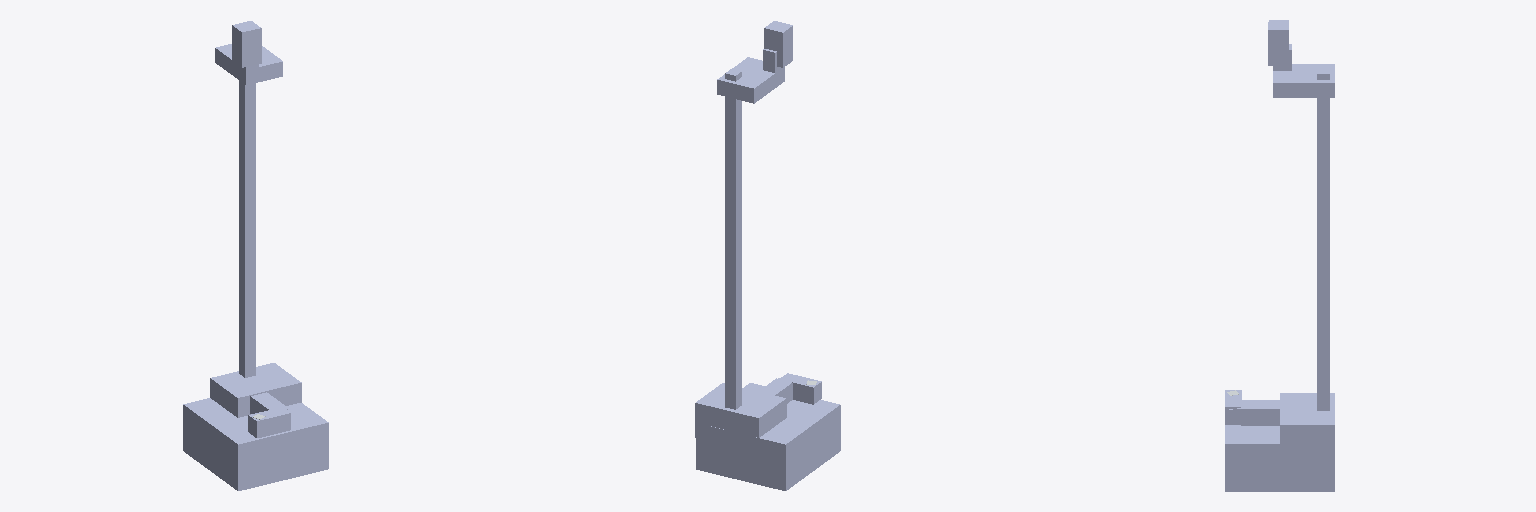
The robot description file, URDF, robot "stretch_description_S3_collision":
<?xml version="1.0" encoding="utf-8"?>
<!-- This URDF was automatically created by SolidWorks to URDF Exporter! Originally created by [author] ([email redacted]) 
     Commit Version: 1.5.1-0-g916b5db  Build Version: 1.5.7152.31018
     For more information, please see http://wiki.ros.org/sw_urdf_exporter -->
<robot
  name="stretch_description_S3_collision">
  <link
    name="base_link">
    <inertial>
      <origin
        xyz="-0.11400004837072 0.000500000000002998 0.0804985999999998"
        rpy="0 0 0" />
      <mass
        value="17.8942374283071" />
      <inertia
        ixx="0.213061120009461"
        ixy="-2.10678538191478E-17"
        ixz="4.68125202565575E-18"
        iyy="0.19615284074807"
        iyz="-6.45475890002455E-17"
        izz="0.331910561578368" />
    </inertial>
    <visual>
      <origin
        xyz="0 0 0"
        rpy="0 0 0" />
      <geometry>
        <mesh
          filename="package://stretch_description_S3_collision/meshes/base_link.STL" />
      </geometry>
      <material
        name="">
        <color
          rgba="0.792156862745098 0.819607843137255 0.933333333333333 1" />
      </material>
    </visual>
    <collision>
      <origin
        xyz="0 0 0"
        rpy="0 0 0" />
      <geometry>
        <mesh
          filename="package://stretch_description_S3_collision/meshes/base_link.STL" />
      </geometry>
    </collision>
  </link>
  <link
    name="link_mast">
    <inertial>
      <origin
        xyz="2.77555756156289E-17 0.7075 -2.77555756156289E-17"
        rpy="0 0 0" />
      <mass
        value="1.8678067708306" />
      <inertia
        ixx="0.257240348204921"
        ixy="-1.10228377351677E-18"
        ixz="-3.10682858140655E-20"
        iyy="0.000452490549048072"
        iyz="2.55168464362254E-18"
        izz="0.257240348204921" />
    </inertial>
    <visual>
      <origin
        xyz="0 0 0"
        rpy="0 0 0" />
      <geometry>
        <mesh
          filename="package://stretch_description_S3_collision/meshes/link_mast.STL" />
      </geometry>
      <material
        name="">
        <color
          rgba="0.792156862745098 0.819607843137255 0.933333333333333 1" />
      </material>
    </visual>
    <collision>
      <origin
        xyz="0 0 0"
        rpy="0 0 0" />
      <geometry>
        <mesh
          filename="package://stretch_description_S3_collision/meshes/link_mast.STL" />
      </geometry>
    </collision>
  </link>
  <joint
    name="joint_mast"
    type="fixed">
    <origin
      xyz="-0.0669999999989439 0.135000000000006 0.0283999999999986"
      rpy="1.5707963267949 0 0" />
    <parent
      link="base_link" />
    <child
      link="link_mast" />
    <axis
      xyz="0 0 0" />
  </joint>
  <link
    name="link_lift">
    <inertial>
      <origin
        xyz="-0.0495999999999985 0.0391055571636557 0.0263204136207454"
        rpy="0 0 0" />
      <mass
        value="4.73654413512218" />
      <inertia
        ixx="0.0265523544770934"
        ixy="4.3603911959983E-18"
        ixz="1.9452653164428E-17"
        iyy="0.0172864951059097"
        iyz="-2.69087210511415E-17"
        izz="0.0323494072137015" />
    </inertial>
    <visual>
      <origin
        xyz="0 0 0"
        rpy="0 0 0" />
      <geometry>
        <mesh
          filename="package://stretch_description_S3_collision/meshes/link_lift.STL" />
      </geometry>
      <material
        name="">
        <color
          rgba="0.792156862745098 0.819607843137255 0.933333333333333 1" />
      </material>
    </visual>
    <collision>
      <origin
        xyz="0 0 0"
        rpy="0 0 0" />
      <geometry>
        <mesh
          filename="package://stretch_description_S3_collision/meshes/link_lift.STL" />
      </geometry>
    </collision>
  </link>
  <joint
    name="joint_lift"
    type="prismatic">
    <origin
      xyz="-0.0373854368624716 0.166597200000001 0"
      rpy="1.5707963267949 1.5707963267949 0" />
    <parent
      link="link_mast" />
    <child
      link="link_lift" />
    <axis
      xyz="0 0 -1" />
    <limit
      lower="0"
      upper="1.1"
      effort="1"
      velocity="1" />
  </joint>
  <link
    name="link_arm_l4">
    <inertial>
      <origin
        xyz="1.31145094783847E-15 1.38777878078145E-15 -0.111250000000003"
        rpy="0 0 0" />
      <mass
        value="0.78638230625" />
      <inertia
        ixx="0.00347584599997702"
        ixy="5.42895268456038E-20"
        ixz="1.88755031660467E-19"
        iyy="0.00347584599997702"
        iyz="5.45500739372154E-20"
        izz="0.000463218825155857" />
    </inertial>
    <visual>
      <origin
        xyz="0 0 0"
        rpy="0 0 0" />
      <geometry>
        <mesh
          filename="package://stretch_description_S3_collision/meshes/link_arm_l4.STL" />
      </geometry>
      <material
        name="">
        <color
          rgba="0.792156862745098 0.819607843137255 0.933333333333333 1" />
      </material>
    </visual>
    <collision>
      <origin
        xyz="0 0 0"
        rpy="0 0 0" />
      <geometry>
        <mesh
          filename="package://stretch_description_S3_collision/meshes/link_arm_l4.STL" />
      </geometry>
    </collision>
  </link>
  <joint
    name="joint_arm_l4"
    type="fixed">
    <origin
      xyz="-0.254702700000004 0 0"
      rpy="1.5707963267949 0 -1.5707963267949" />
    <parent
      link="link_lift" />
    <child
      link="link_arm_l4" />
    <axis
      xyz="0 0 0" />
  </joint>
  <link
    name="link_arm_l3">
    <inertial>
      <origin
        xyz="1.29583843655467E-15 1.36002320516582E-15 -0.113250000000003"
        rpy="0 0 0" />
      <mass
        value="0.69140540625" />
      <inertia
        ixx="0.00313176760151709"
        ixy="1.37421883375393E-21"
        ixz="1.2417568515994E-19"
        iyy="0.00313176760151709"
        iyz="-5.62600837089042E-20"
        izz="0.000351759702569336" />
    </inertial>
    <visual>
      <origin
        xyz="0 0 0"
        rpy="0 0 0" />
      <geometry>
        <mesh
          filename="package://stretch_description_S3_collision/meshes/link_arm_l3.STL" />
      </geometry>
      <material
        name="">
        <color
          rgba="0.792156862745098 0.819607843137255 0.933333333333333 1" />
      </material>
    </visual>
    <collision>
      <origin
        xyz="0 0 0"
        rpy="0 0 0" />
      <geometry>
        <mesh
          filename="package://stretch_description_S3_collision/meshes/link_arm_l3.STL" />
      </geometry>
    </collision>
  </link>
  <joint
    name="joint_arm_l3"
    type="prismatic">
    <origin
      xyz="0 0 0.013"
      rpy="0 0 0" />
    <parent
      link="link_arm_l4" />
    <child
      link="link_arm_l3" />
    <axis
      xyz="0 0 -1" />
    <limit
      lower="0"
      upper="1"
      effort="1"
      velocity="1" />
  </joint>
  <link
    name="link_arm_l2">
    <inertial>
      <origin
        xyz="1.3235940121703E-15 1.38777878078145E-15 -0.113250000000003"
        rpy="0 0 0" />
      <mass
        value="0.597240296250001" />
      <inertia
        ixx="0.00268454896994585"
        ixy="-2.20304947481381E-20"
        ixz="1.65250429579797E-20"
        iyy="0.00268454896994585"
        iyz="-2.43635469477148E-20"
        izz="0.000262469441843111" />
    </inertial>
    <visual>
      <origin
        xyz="0 0 0"
        rpy="0 0 0" />
      <geometry>
        <mesh
          filename="package://stretch_description_S3_collision/meshes/link_arm_l2.STL" />
      </geometry>
      <material
        name="">
        <color
          rgba="0.792156862745098 0.819607843137255 0.933333333333333 1" />
      </material>
    </visual>
    <collision>
      <origin
        xyz="0 0 0"
        rpy="0 0 0" />
      <geometry>
        <mesh
          filename="package://stretch_description_S3_collision/meshes/link_arm_l2.STL" />
      </geometry>
    </collision>
  </link>
  <joint
    name="joint_arm_l2"
    type="prismatic">
    <origin
      xyz="0 0 0.013"
      rpy="0 0 0" />
    <parent
      link="link_arm_l3" />
    <child
      link="link_arm_l2" />
    <axis
      xyz="0 0 -1" />
    <limit
      lower="0"
      upper="1"
      effort="1"
      velocity="1" />
  </joint>
  <link
    name="link_arm_l1">
    <inertial>
      <origin
        xyz="1.33573707650214E-15 1.33226762955019E-15 -0.113250000000002"
        rpy="0 0 0" />
      <mass
        value="0.50781809625" />
      <inertia
        ixx="0.0022658958771701"
        ixy="1.02241667596953E-20"
        ixz="1.18035557554568E-20"
        iyy="0.0022658958771701"
        iyz="5.09058387024662E-20"
        izz="0.000189756599616611" />
    </inertial>
    <visual>
      <origin
        xyz="0 0 0"
        rpy="0 0 0" />
      <geometry>
        <mesh
          filename="package://stretch_description_S3_collision/meshes/link_arm_l1.STL" />
      </geometry>
      <material
        name="">
        <color
          rgba="0.792156862745098 0.819607843137255 0.933333333333333 1" />
      </material>
    </visual>
    <collision>
      <origin
        xyz="0 0 0"
        rpy="0 0 0" />
      <geometry>
        <mesh
          filename="package://stretch_description_S3_collision/meshes/link_arm_l1.STL" />
      </geometry>
    </collision>
  </link>
  <joint
    name="joint_arm_l1"
    type="prismatic">
    <origin
      xyz="0 0 0.0129999999999981"
      rpy="0 0 0" />
    <parent
      link="link_arm_l2" />
    <child
      link="link_arm_l1" />
    <axis
      xyz="0 0 -1" />
    <limit
      lower="0"
      upper="1"
      effort="1"
      velocity="1" />
  </joint>
  <link
    name="link_arm_l0">
    <inertial>
      <origin
        xyz="0.0306371125003669 -0.000255002893144701 -0.0332543343274891"
        rpy="0 0 0" />
      <mass
        value="0.541496991463441" />
      <inertia
        ixx="0.00200001508428477"
        ixy="1.70041718844323E-06"
        ixz="-0.000535096318028993"
        iyy="0.00258685232494381"
        iyz="4.4537849056297E-06"
        izz="0.000836410819689304" />
    </inertial>
    <visual>
      <origin
        xyz="0 0 0"
        rpy="0 0 0" />
      <geometry>
        <mesh
          filename="package://stretch_description_S3_collision/meshes/link_arm_l0.STL" />
      </geometry>
      <material
        name="">
        <color
          rgba="0.792156862745098 0.819607843137255 0.933333333333333 1" />
      </material>
    </visual>
    <collision>
      <origin
        xyz="0 0 0"
        rpy="0 0 0" />
      <geometry>
        <mesh
          filename="package://stretch_description_S3_collision/meshes/link_arm_l0.STL" />
      </geometry>
    </collision>
  </link>
  <joint
    name="joint_arm_l0"
    type="prismatic">
    <origin
      xyz="0 0 -0.0137499999991968"
      rpy="0 0 0" />
    <parent
      link="link_arm_l1" />
    <child
      link="link_arm_l0" />
    <axis
      xyz="0 0 -1" />
    <limit
      lower="0"
      upper="1"
      effort="1"
      velocity="1" />
  </joint>
  <link
    name="link_wrist_yaw">
    <inertial>
      <origin
        xyz="-1.29063426612674E-15 4.19109191795997E-15 -0.0190000000000012"
        rpy="0 0 0" />
      <mass
        value="0.0923399999999999" />
      <inertia
        ixx="1.803708E-05"
        ixy="8.90347399579394E-22"
        ixz="3.88874985447859E-21"
        iyy="1.803708E-05"
        iyz="-1.78677337138613E-21"
        izz="1.3851E-05" />
    </inertial>
    <visual>
      <origin
        xyz="0 0 0"
        rpy="0 0 0" />
      <geometry>
        <mesh
          filename="package://stretch_description_S3_collision/meshes/link_wrist_yaw.STL" />
      </geometry>
      <material
        name="">
        <color
          rgba="0.898039215686275 0.917647058823529 0.929411764705882 1" />
      </material>
    </visual>
    <collision>
      <origin
        xyz="0 0 0"
        rpy="0 0 0" />
      <geometry>
        <mesh
          filename="package://stretch_description_S3_collision/meshes/link_wrist_yaw.STL" />
      </geometry>
    </collision>
  </link>
  <joint
    name="joint_wrist_yaw"
    type="revolute">
    <origin
      xyz="0.0830000000000654 -0.0307500000000129 0"
      rpy="-1.5707963267949 0 3.14159265358978" />
    <parent
      link="link_arm_l0" />
    <child
      link="link_wrist_yaw" />
    <axis
      xyz="0 0 -1" />
    <limit
      lower="0"
      upper="3.1416"
      effort="1"
      velocity="1" />
  </joint>
  <link
    name="link_head">
    <inertial>
      <origin
        xyz="0.0611392022099394 0.0287000000193147 0.0255640887445199"
        rpy="0 0 0" />
      <mass
        value="1.33572254312489" />
      <inertia
        ixx="0.00229139640231229"
        ixy="-5.99325419161402E-19"
        ixz="-3.26749734422614E-19"
        iyy="0.00443291287224681"
        iyz="4.76482985670774E-20"
        izz="0.00612696524845671" />
    </inertial>
    <visual>
      <origin
        xyz="0 0 0"
        rpy="0 0 0" />
      <geometry>
        <mesh
          filename="package://stretch_description_S3_collision/meshes/link_head.STL" />
      </geometry>
      <material
        name="">
        <color
          rgba="0.792156862745098 0.819607843137255 0.933333333333333 1" />
      </material>
    </visual>
    <collision>
      <origin
        xyz="0 0 0"
        rpy="0 0 0" />
      <geometry>
        <mesh
          filename="package://stretch_description_S3_collision/meshes/link_head.STL" />
      </geometry>
    </collision>
  </link>
  <joint
    name="joint_head"
    type="fixed">
    <origin
      xyz="0 1.33 0"
      rpy="1.5707963267949 -1.5707963267949 0" />
    <parent
      link="link_mast" />
    <child
      link="link_head" />
    <axis
      xyz="0 0 0" />
  </joint>
  <link
    name="link_head_pan">
    <inertial>
      <origin
        xyz="2.77555756156289E-17 0.00801031176389815 -0.0135000000000001"
        rpy="0 0 0" />
      <mass
        value="0.296560230345136" />
      <inertia
        ixx="0.000380277119700896"
        ixy="9.92854868294564E-21"
        ixz="2.54377581086815E-20"
        iyy="0.000338301082766222"
        iyz="1.79656578255297E-20"
        izz="0.000142065114676175" />
    </inertial>
    <visual>
      <origin
        xyz="0 0 0"
        rpy="0 0 0" />
      <geometry>
        <mesh
          filename="package://stretch_description_S3_collision/meshes/link_head_pan.STL" />
      </geometry>
      <material
        name="">
        <color
          rgba="0.792156862745098 0.819607843137255 0.933333333333333 1" />
      </material>
    </visual>
    <collision>
      <origin
        xyz="0 0 0"
        rpy="0 0 0" />
      <geometry>
        <mesh
          filename="package://stretch_description_S3_collision/meshes/link_head_pan.STL" />
      </geometry>
    </collision>
  </link>
  <joint
    name="joint_head_pan"
    type="revolute">
    <origin
      xyz="0.135 0.0731000000000001 -0.00319621125547975"
      rpy="0 0 1.5707963267949" />
    <parent
      link="link_head" />
    <child
      link="link_head_pan" />
    <axis
      xyz="0 0 -1" />
    <limit
      lower="0"
      upper="1"
      effort="1"
      velocity="1" />
  </joint>
  <link
    name="link_head_tilt">
    <inertial>
      <origin
        xyz="0.0108465972636136 -0.022972712336035 0.0318092059684025"
        rpy="0 0 0" />
      <mass
        value="0.530742044146659" />
      <inertia
        ixx="0.000835699277225503"
        ixy="1.38912684335748E-17"
        ixz="3.62079586230494E-06"
        iyy="0.000386462475100045"
        iyz="2.62299828937405E-19"
        izz="0.000863980911720213" />
    </inertial>
    <visual>
      <origin
        xyz="0 0 0"
        rpy="0 0 0" />
      <geometry>
        <mesh
          filename="package://stretch_description_S3_collision/meshes/link_head_tilt.STL" />
      </geometry>
      <material
        name="">
        <color
          rgba="0.792156862745098 0.819607843137255 0.933333333333333 1" />
      </material>
    </visual>
    <collision>
      <origin
        xyz="0 0 0"
        rpy="0 0 0" />
      <geometry>
        <mesh
          filename="package://stretch_description_S3_collision/meshes/link_head_tilt.STL" />
      </geometry>
    </collision>
  </link>
  <joint
    name="joint_head_tilt"
    type="revolute">
    <origin
      xyz="-0.00130000001785262 0.0277624999926072 -0.0533107920897029"
      rpy="1.5707963267949 0 0" />
    <parent
      link="link_head_pan" />
    <child
      link="link_head_tilt" />
    <axis
      xyz="0 0 -1" />
    <limit
      lower="0"
      upper="3.1416"
      effort="1"
      velocity="1" />
  </joint>
</robot>

--- Facts derived from the render (not from the file) ---
Views: 3 orthographic renders of the robot side by side, from view 1: azimuth 30°, elevation 25°; view 2: azimuth 150°, elevation 25°; view 3: azimuth 270°, elevation 25°.
Robot: stretch_description_S3_collision — 12 links, 11 joints (3 revolute, 5 prismatic, 3 fixed); root link base_link; default pose: all joints at 0.
Visible links, largest first — view 1: base_link, link_mast, link_lift, link_head, link_head_tilt, link_arm_l0; view 2: base_link, link_mast, link_lift, link_head, link_head_tilt, link_arm_l0; view 3: base_link, link_mast, link_lift, link_head, link_arm_l4, link_head_tilt.
Link boxes in pixels (left/top/right/bottom): base_link: left=183, top=398, right=328, bottom=490; link_mast: left=239, top=81, right=255, bottom=377; link_lift: left=210, top=363, right=301, bottom=417; link_head: left=215, top=44, right=282, bottom=84; link_head_tilt: left=232, top=21, right=261, bottom=67; link_arm_l0: left=248, top=407, right=290, bottom=437; base_link: left=696, top=383, right=840, bottom=490; link_mast: left=725, top=69, right=741, bottom=409; link_lift: left=695, top=383, right=786, bottom=437; link_head: left=717, top=57, right=784, bottom=103; link_head_tilt: left=764, top=21, right=792, bottom=67; link_arm_l0: left=780, top=373, right=821, bottom=404; base_link: left=1225, top=400, right=1334, bottom=491; link_mast: left=1317, top=69, right=1329, bottom=410; link_lift: left=1280, top=393, right=1334, bottom=459; link_head: left=1273, top=64, right=1334, bottom=97; link_arm_l4: left=1241, top=401, right=1279, bottom=425; link_head_tilt: left=1268, top=20, right=1288, bottom=65.
Bounding box of the posed robot: 0.326 × 0.342 × 1.5 m (x, y, z).
12 mesh visuals loaded from 12 distinct referenced files (12 binary STL).